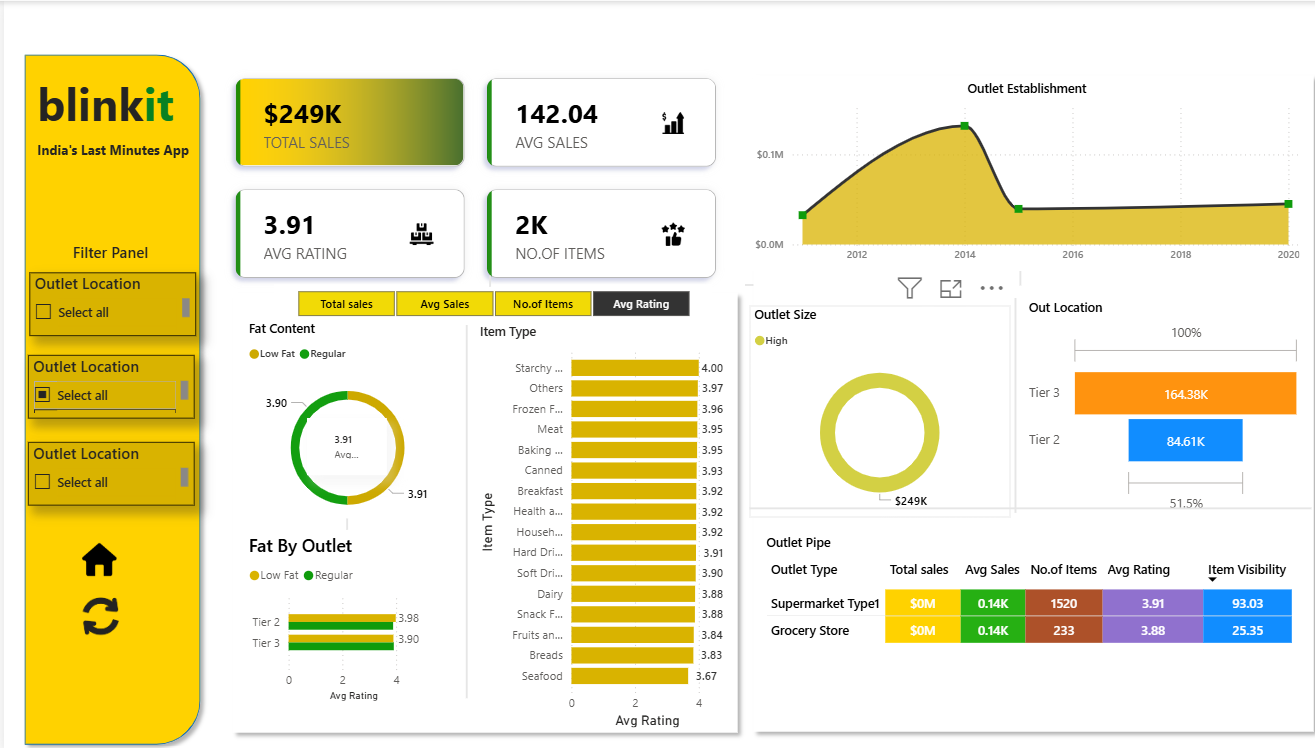

The dashboard page shown, as its layout file describes it:
{"tool":"powerbi","page":{"name":"Page 1","canvas":[1400,800],"ordinal":0},"visuals":[{"type":"shape","box":[12.4,47.5,204.6,750.3],"z":0},{"type":"textbox","box":[31,70.3,167.4,93],"z":1000},{"type":"textbox","box":[31,142.6,171.6,43.4],"z":2000},{"type":"cardVisual","fields":{"Data":["BlinkIT Grocery Data.Total sales","BlinkIT Grocery Data.Avg Sales","BlinkIT Grocery Data.Avg Rating","BlinkIT Grocery Data.No.of Items"]},"box":[216.5,52.5,568.2,270.6],"z":3000},{"type":"shape","box":[233.3,300.4,553.2,484.3],"z":4000},{"type":"slicer","fields":{"Values":["Metrics.Metrics"]},"box":[286.3,300.4,464.8,40.6],"z":5000},{"type":"donutChart","title":"Fat Content","fields":{"Y":["BlinkIT Grocery Data.Avg Rating"],"Category":["BlinkIT Grocery Data.Item Fat Content"]},"box":[254.5,337.6,219.2,228],"z":6000},{"type":"clusteredBarChart","title":"Fat By Outlet","fields":{"Y":["BlinkIT Grocery Data.Avg Rating"],"Category":["BlinkIT Grocery Data.Outlet Location Type"],"Series":["BlinkIT Grocery Data.Item Fat Content"]},"box":[254.5,565.6,194.4,182],"z":7000},{"type":"cardVisual","fields":{"Data":["BlinkIT Grocery Data.Avg Rating"]},"box":[321.5,442.4,84.4,60.5],"z":8000},{"type":"shape","box":[786.5,288.1,593.8,26.5],"z":9000},{"type":"shape","box":[469.5,343.8,43,396.3],"z":10000},{"type":"barChart","title":"Item Type","fields":{"Y":["BlinkIT Grocery Data.Avg Rating"],"Category":["BlinkIT Grocery Data.Item Type"]},"box":[500.2,341.1,272.2,434.8],"z":11000},{"type":"shape","box":[786.5,70.7,613.3,714],"z":12000},{"type":"lineChart","title":"Outlet Establishment","fields":{"Category":["BlinkIT Grocery Data.Outlet Establishment Year"],"Y":["BlinkIT Grocery Data.Total sales"]},"box":[791.8,83.1,588.5,203.2],"z":13000},{"type":"shape","box":[775.9,293.4,613.3,8.8],"z":14000},{"type":"donutChart","title":"Outlet Size","fields":{"Y":["BlinkIT Grocery Data.Total sales"],"Category":["BlinkIT Grocery Data.Outlet Size"]},"box":[791.8,323.4,275.7,224.5],"z":15000},{"type":"shape","box":[1051.6,314.6,42.4,228],"z":16000},{"type":"funnel","title":"Out Location","fields":{"Y":["Sum(BlinkIT Grocery Data.Sales)"],"Category":["BlinkIT Grocery Data.Outlet Location Type"]},"box":[1081.6,314.6,298.7,233.3],"z":17000},{"type":"shape","box":[791.8,519.6,597.4,38.9],"z":18000},{"type":"pivotTable","title":"Outlet Pipe","fields":{"Rows":["BlinkIT Grocery Data.Outlet Type"],"Values":["BlinkIT Grocery Data.Total sales","BlinkIT Grocery Data.Avg Sales","BlinkIT Grocery Data.No.of Items","BlinkIT Grocery Data.Avg Rating","Sum(BlinkIT Grocery Data.Item Visibility)"]},"box":[804.1,565.6,577.9,182],"z":19000},{"type":"listSlicer","title":"Outlet Location ","fields":{"Values":["BlinkIT Grocery Data.Outlet Location Type"]},"box":[26.5,288.1,176.7,67.2],"z":20000},{"type":"listSlicer","title":"Outlet Location ","fields":{"Values":["BlinkIT Grocery Data.Outlet Size"]},"box":[25.9,375.2,176.4,67.4],"z":21000},{"type":"listSlicer","title":"Outlet Location ","fields":{"Values":["BlinkIT Grocery Data.Item Type"]},"box":[25.9,468.6,176.4,67.4],"z":22000},{"type":"textbox","box":[49.5,249.2,127.2,37.1],"z":23000},{"type":"image","box":[58.3,558.5,83.1,67.2],"z":25000},{"type":"image","box":[63.6,627.4,77.8,51.3],"z":25001},{"type":"shape","box":[776.4,287,603.5,15.6],"z":25002},{"type":"shape","box":[254.2,290.5,522.2,12.1],"z":25003},{"type":"shape","box":[238.6,549.9,250.7,12.1],"z":25004}]}

Visuals, with their boxes in screenshot pixels (x1, y1, x2, y2), scaled from the page's 1400x800 canvas onto the 1315x748 screenshot:
shape: 12:44:204:746
textbox: 29:66:186:153
textbox: 29:133:190:174
cardVisual - BlinkIT Grocery Data.Total sales x BlinkIT Grocery Data.Avg Sales: 203:49:737:302
shape: 219:281:739:734
slicer - Metrics.Metrics: 269:281:705:319
"Fat Content" donutChart: 239:316:445:529
"Fat By Outlet" clusteredBarChart: 239:529:422:699
cardVisual - BlinkIT Grocery Data.Avg Rating: 302:414:381:470
shape: 739:269:1296:294
shape: 441:321:481:692
"Item Type" barChart: 470:319:726:725
shape: 739:66:1314:734
"Outlet Establishment" lineChart: 744:78:1296:268
shape: 729:274:1305:283
"Outlet Size" donutChart: 744:302:1003:512
shape: 988:294:1028:507
"Out Location" funnel: 1016:294:1296:512
shape: 744:486:1305:522
"Outlet Pipe" pivotTable: 755:529:1298:699
"Outlet Location " listSlicer: 25:269:191:332
"Outlet Location " listSlicer: 24:351:190:414
"Outlet Location " listSlicer: 24:438:190:501
textbox: 46:233:166:268
image: 55:522:133:585
image: 60:587:133:635
shape: 729:268:1296:283
shape: 239:272:729:283
shape: 224:514:460:525
